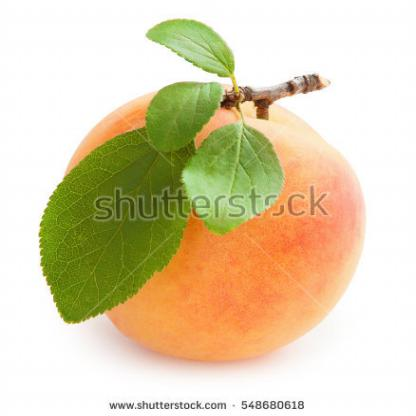peach leaf: (39, 127, 188, 334), (181, 119, 283, 246), (131, 11, 251, 78), (131, 81, 230, 153)
